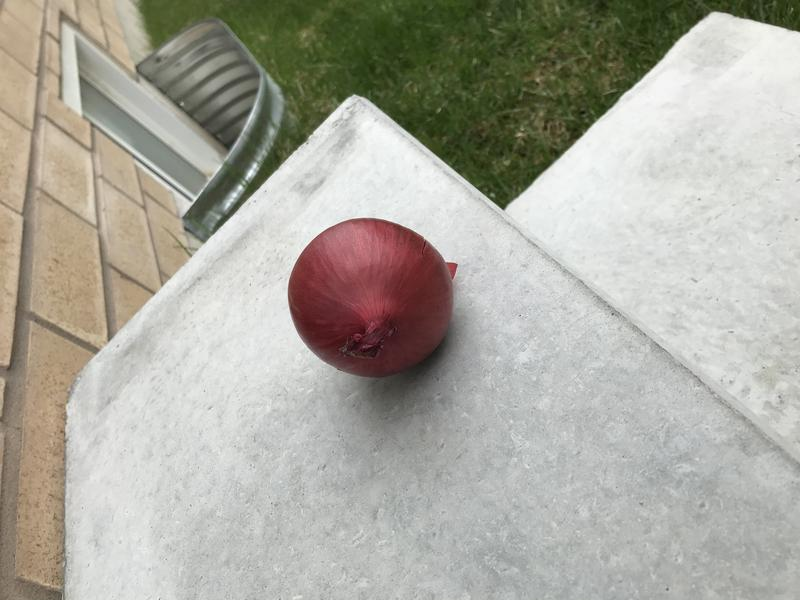purple_onion: (279, 211, 468, 391)
